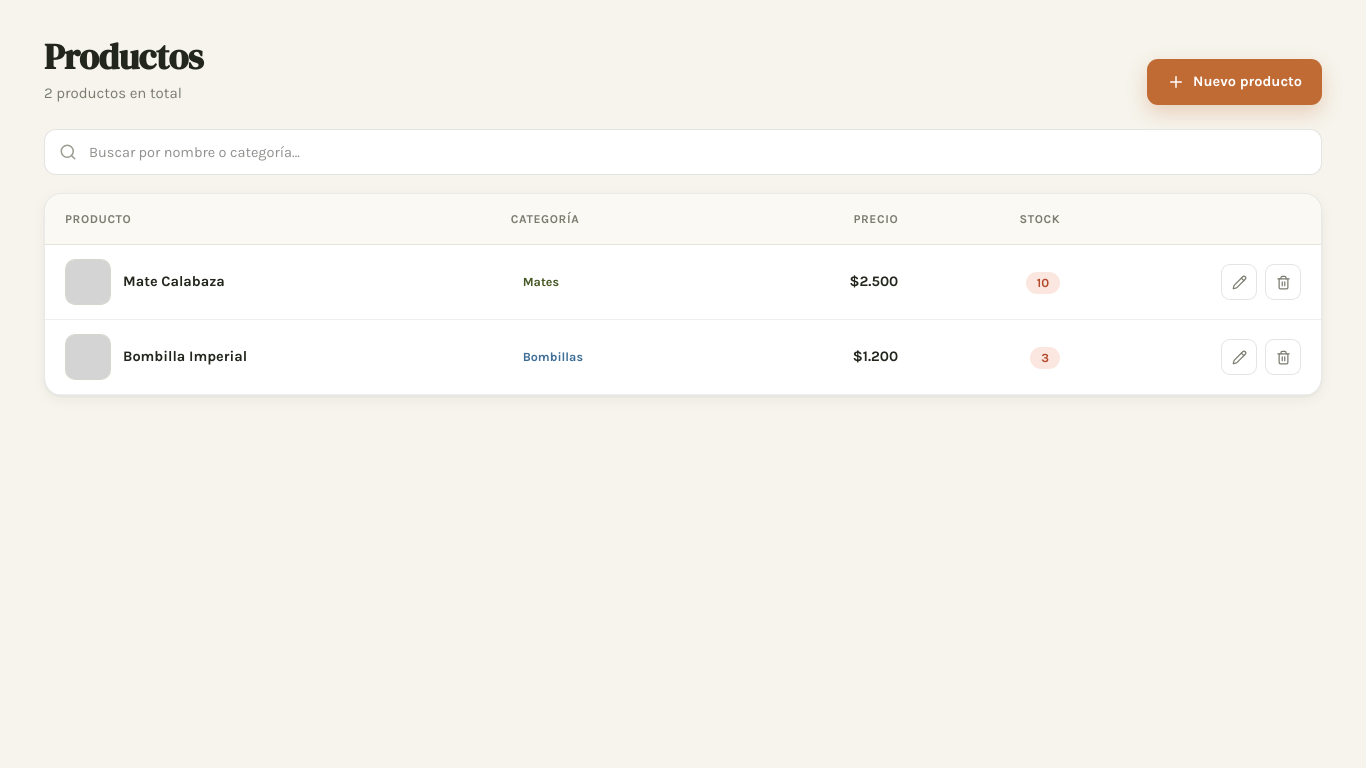
Test: AdminProducts › shows validation error when submitting empty form in create modal
Click the button "Nuevo producto".
click(1235, 82)  # box [1147, 59, 1322, 105]
(page scrolled)
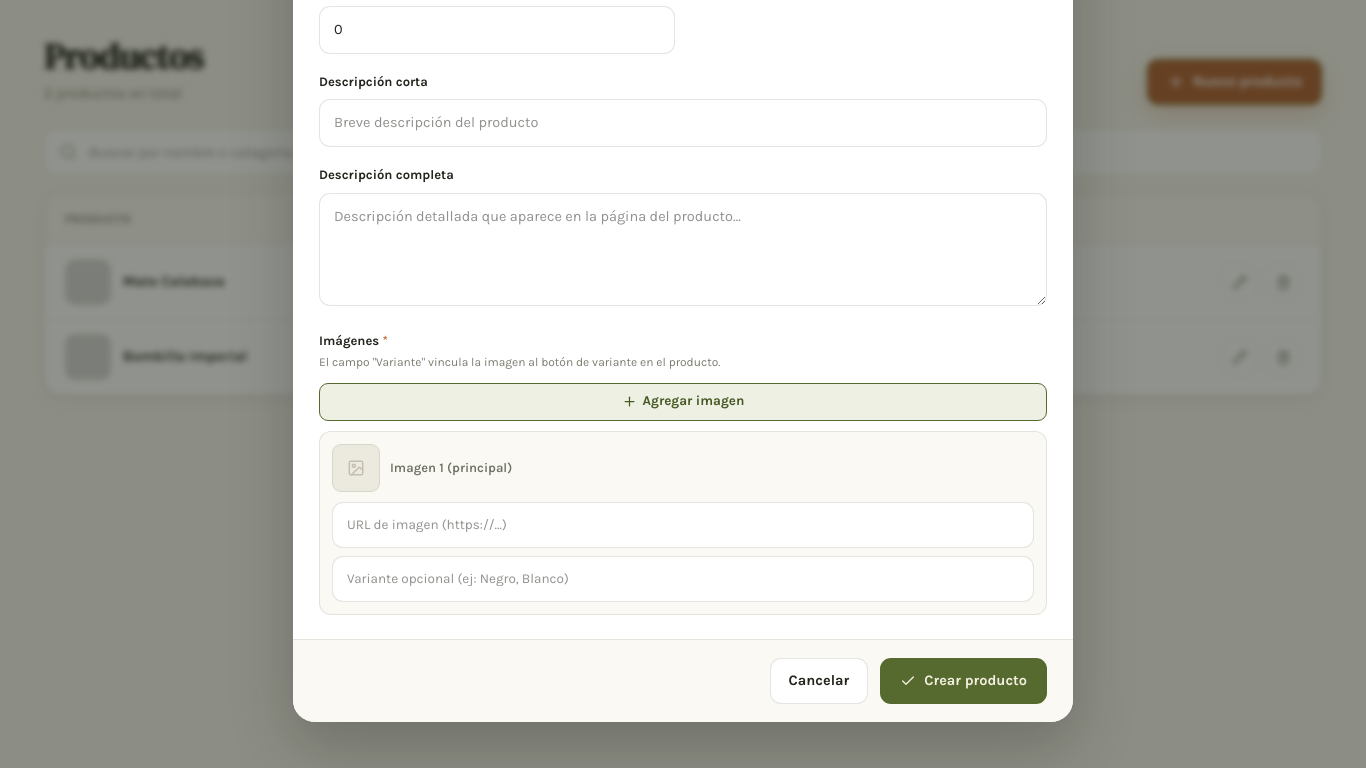
Click the button "Crear producto".
click(964, 681)  # box [880, 658, 1047, 704]
(page scrolled)
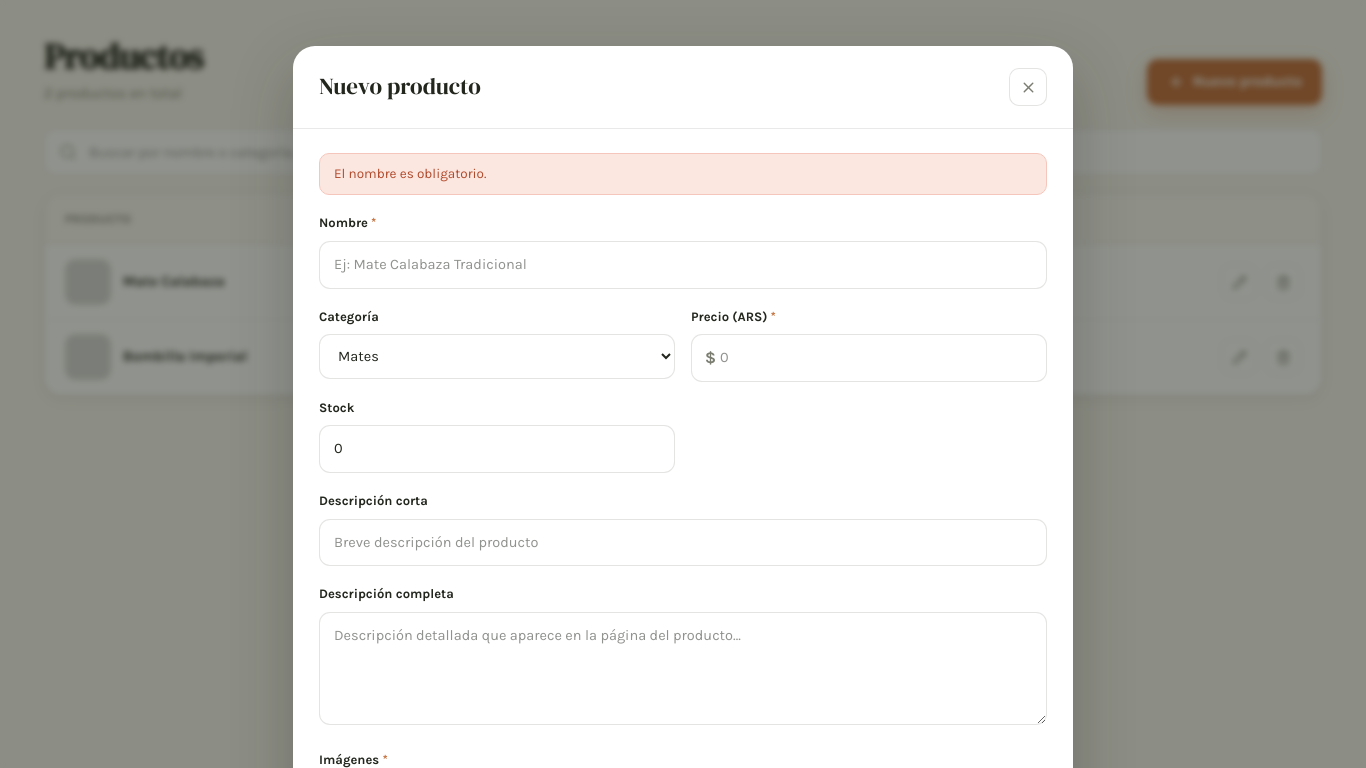
Expected: the text "El nombre es obligatorio." is shown, [319, 153, 1047, 195]
